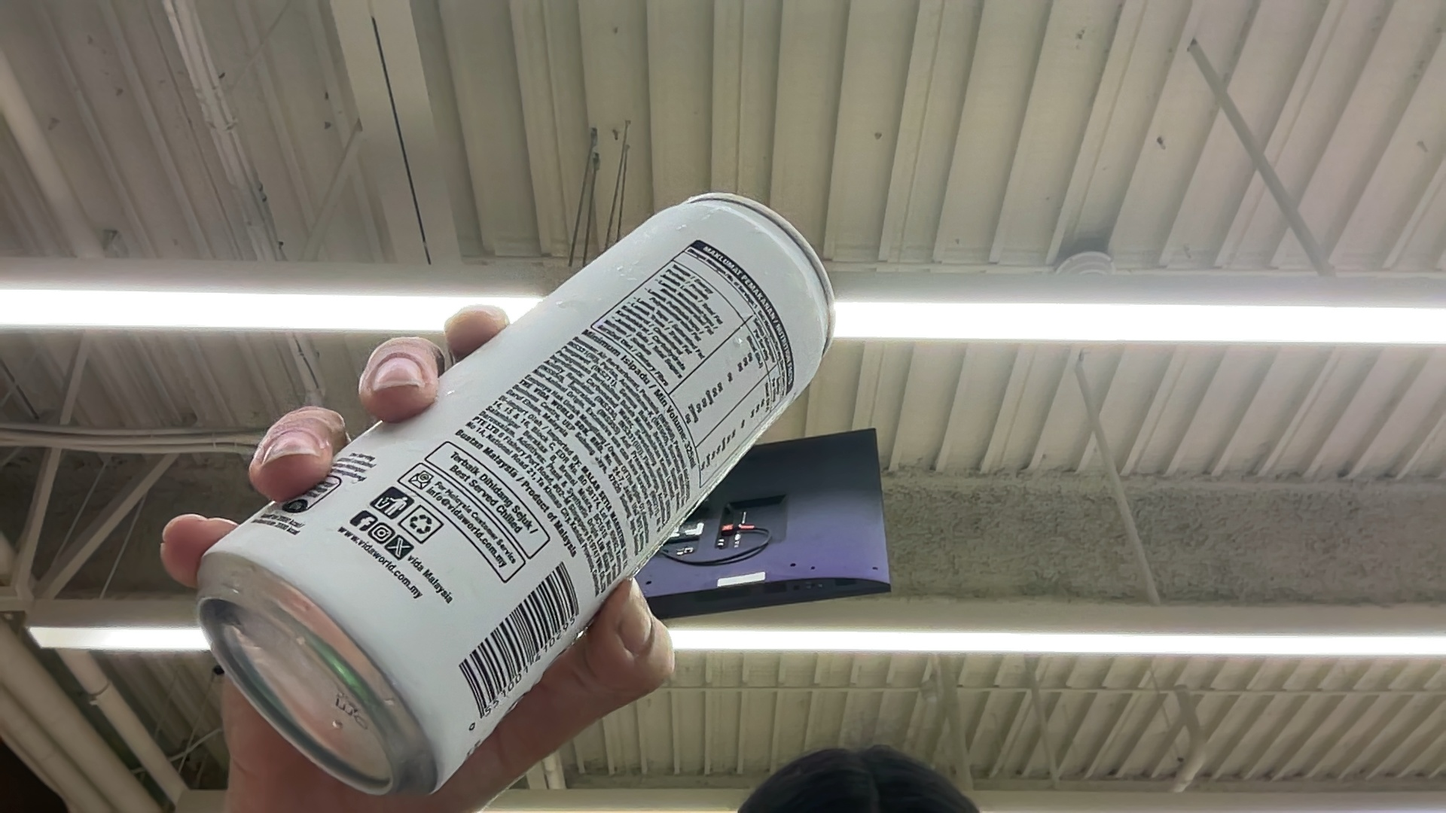Metal: (52, 173, 890, 801)
